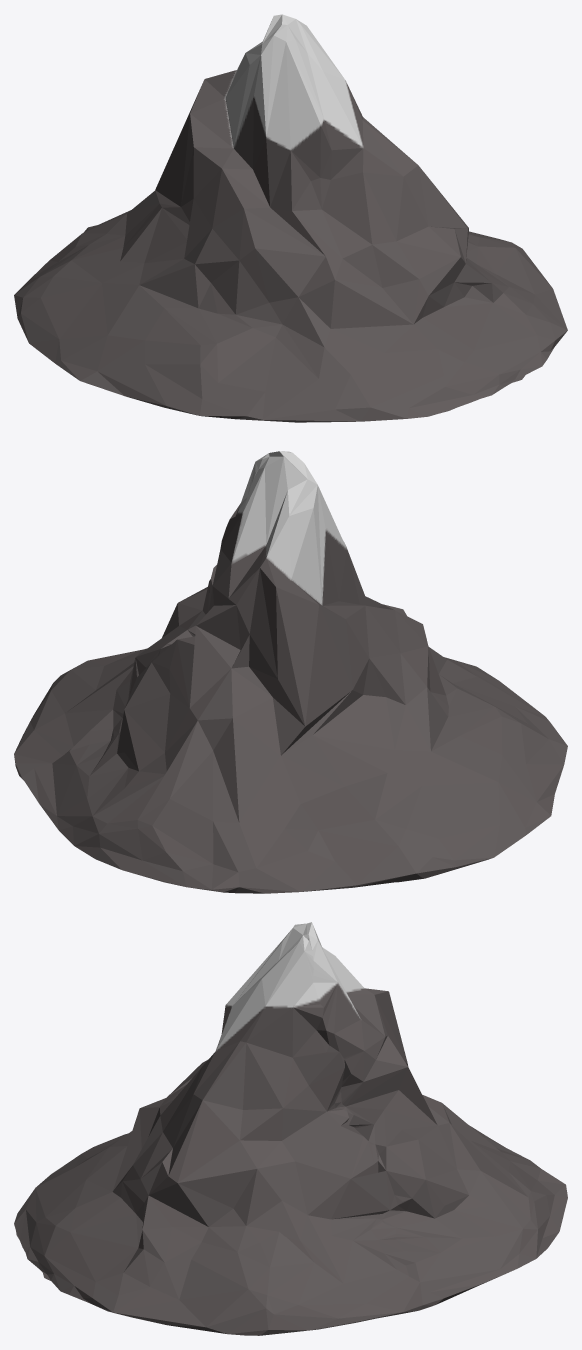
Rendered from Mountain Path 5.fbx.
3 renders of one model, top to bottom at view 1: azimuth 30°, elevation 25°; view 2: azimuth 150°, elevation 25°; view 3: azimuth 270°, elevation 25°, orthographic. The views are drawn at different scales.
Parts seen in each view (by area): view 1: Mountain_Path_5; view 2: Mountain_Path_5; view 3: Mountain_Path_5.
Boxes of the visible parts, x1,y1,x2,y2 form: Mountain_Path_5: (14, 14, 567, 422); Mountain_Path_5: (14, 451, 567, 893); Mountain_Path_5: (14, 922, 567, 1335).
Size of the model in its own units: 189 by 120 by 196.
Materials: 1 (1 with a texture image).
